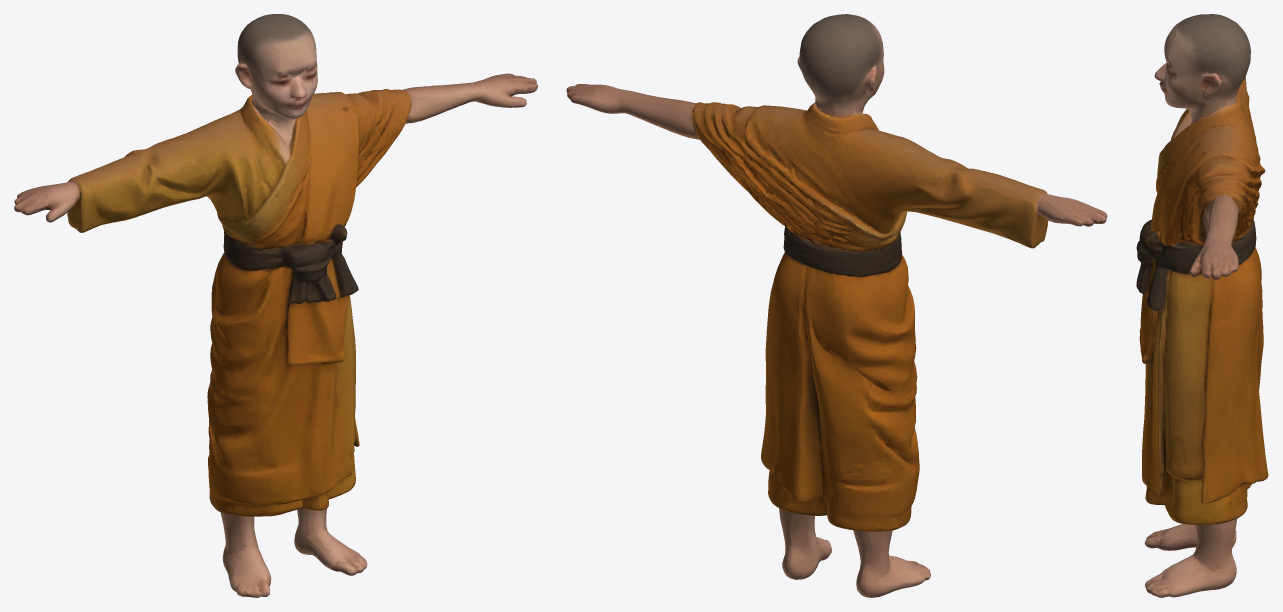
The model's file is CHAR-001.glb.
The picture shows the model from 3 angles, left to right: view 1: azimuth 30°, elevation 25°; view 2: azimuth 150°, elevation 25°; view 3: azimuth 270°, elevation 25°; orthographic projection. The views are drawn at different scales.
Visible parts, largest first — view 1: world; view 2: world; view 3: world.
Boxes of the visible parts, x1,y1,x2,y2 form: world: (14, 14, 537, 597); world: (566, 14, 1107, 597); world: (1136, 14, 1268, 597).
Size of the model in its own units: 1.4 by 1.4 by 0.3054.
Materials: 1 (1 with a texture image).
